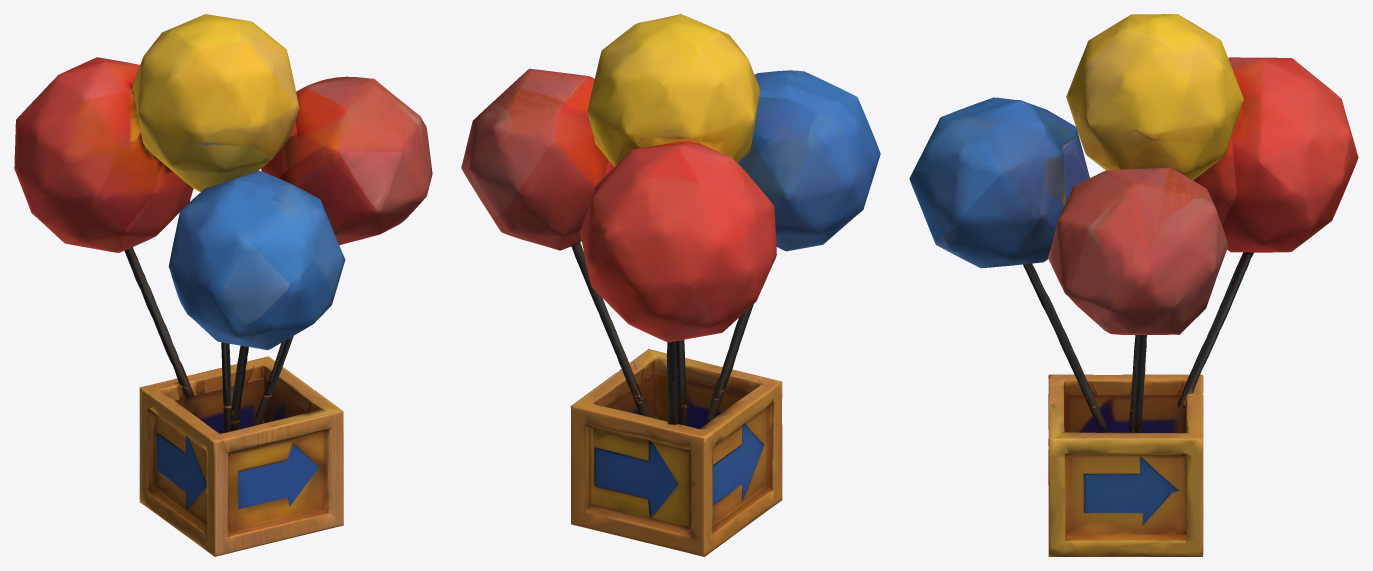
The model's file is speed_up.glb.
3 renders of one model, left to right at view 1: azimuth 30°, elevation 25°; view 2: azimuth 150°, elevation 25°; view 3: azimuth 270°, elevation 25°, orthographic. The views are drawn at different scales.
Bounding box in the file's own units: 1.46 × 2 × 1.63.
1 material, 1 textured.
